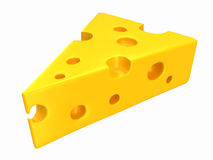cheese: (14, 13, 199, 135)
